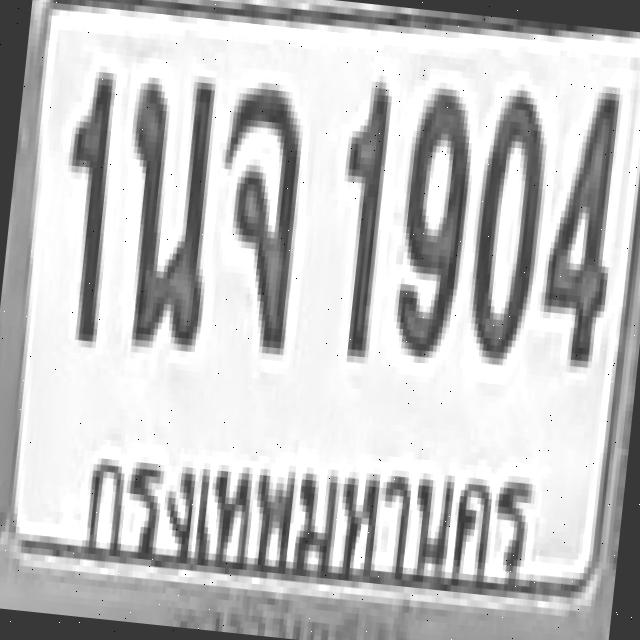0: (460, 84, 552, 364)
1: (50, 66, 120, 344), (326, 79, 394, 357)
17ChorChan: (203, 78, 309, 354)
34NorNu: (110, 70, 222, 352)
4: (534, 78, 628, 366)
9: (388, 79, 476, 359)
Bangkok: (70, 407, 560, 606)
